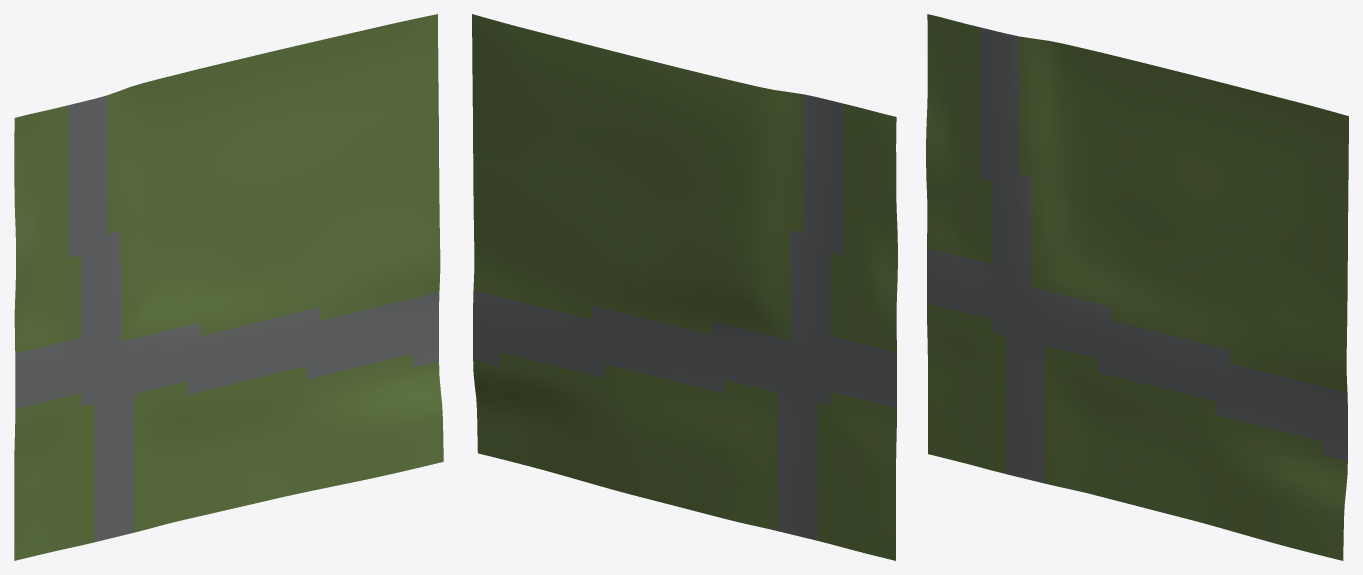
Rendered from island_terrain_21_07.obj.
3 views of the same model, side by side, from view 1: azimuth 30°, elevation 25°; view 2: azimuth 150°, elevation 25°; view 3: azimuth 330°, elevation 25° (orthographic).
Parts seen in each view (by area): view 1: island_terrain_21_07; view 2: island_terrain_21_07; view 3: island_terrain_21_07.
Boxes of the visible parts, bbox=[...] form: island_terrain_21_07: bbox=[14, 14, 443, 560]; island_terrain_21_07: bbox=[472, 14, 897, 560]; island_terrain_21_07: bbox=[926, 14, 1348, 560].
Size of the model in its own units: 256 by 256 by 10.4.
